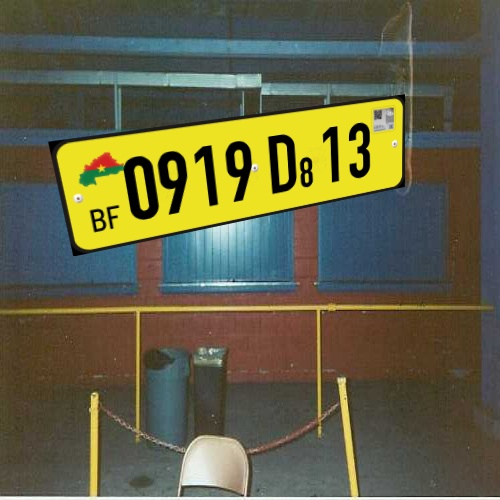plate: (35, 85, 426, 264)
